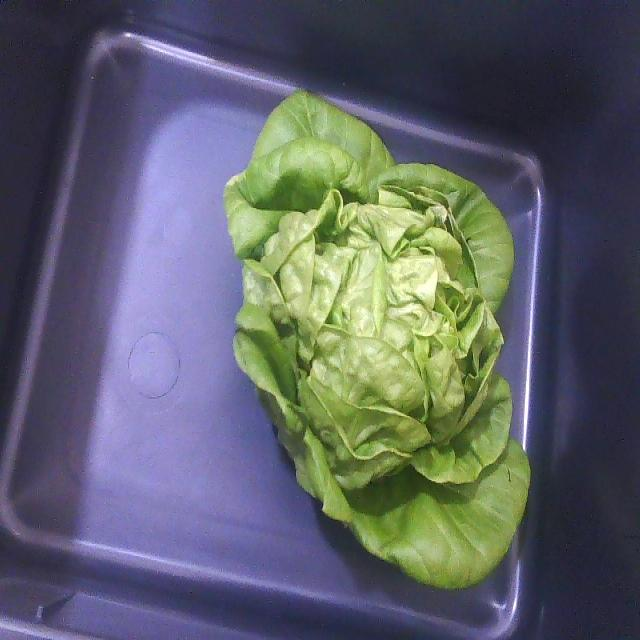Lettuce-plant: (224, 91, 530, 587)
